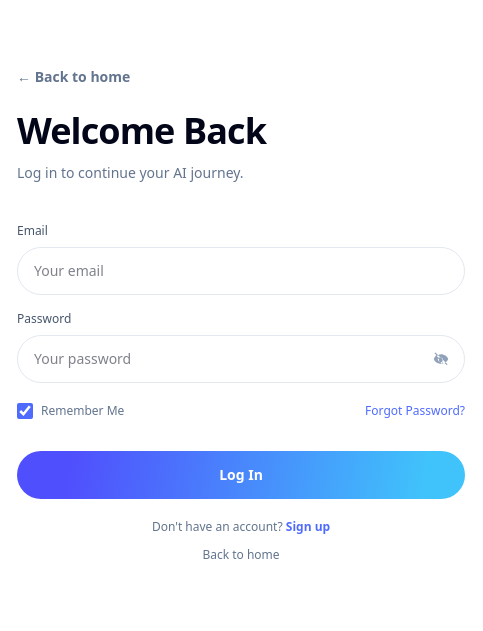
Test: AuthForm — login mode › shows validation errors when submitting empty fields
Step 1. Click the button "Log In" → (241, 474), box [17, 450, 465, 498]
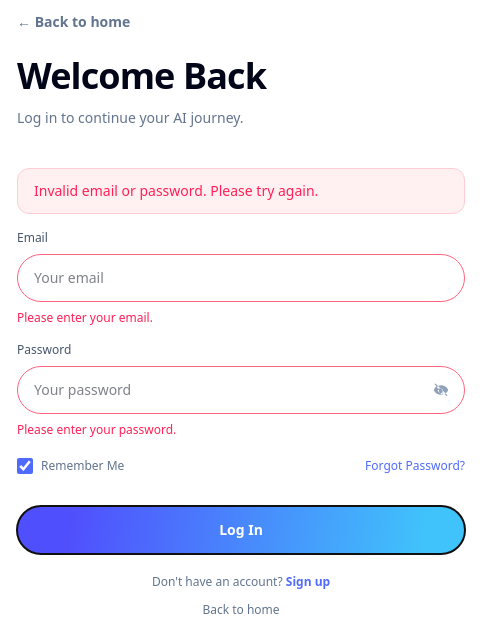
Expected: the text "Please enter your email." is shown, [17, 308, 153, 326]
Expected: the text "Please enter your password." is shown, [17, 420, 176, 438]
Expected: the text "Invalid email or password. Please try again." is shown, [17, 168, 465, 214]
